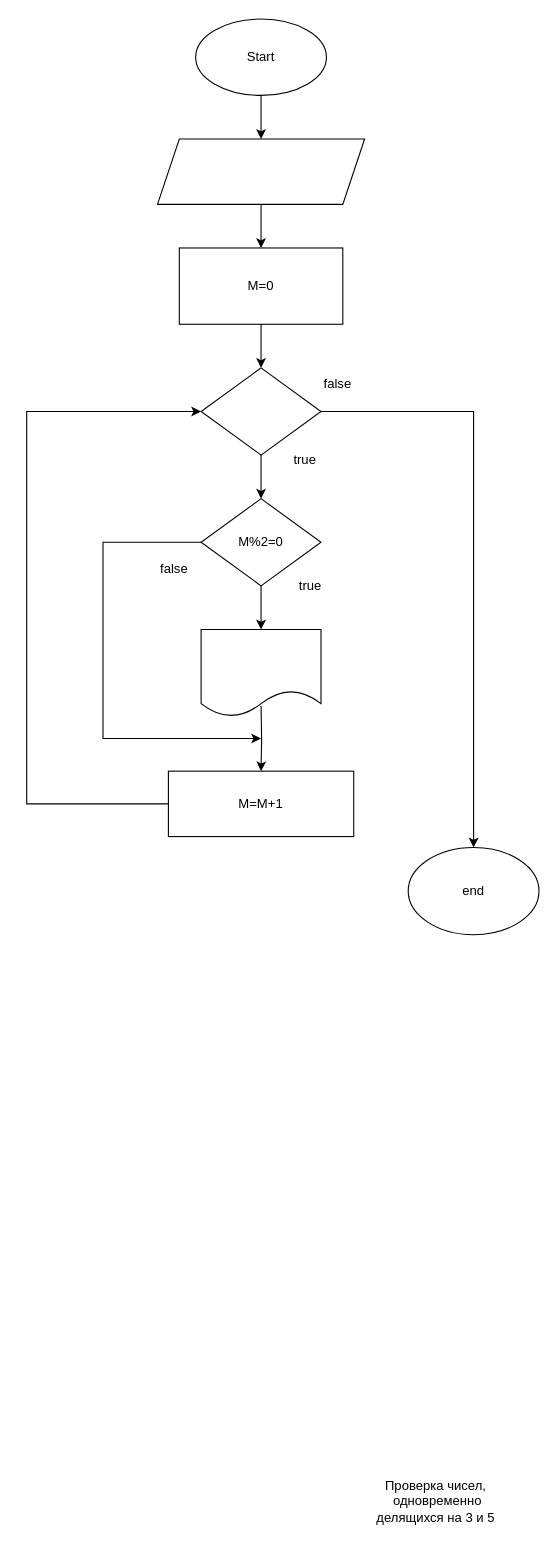
This 558x1553 diagram has some shape labels left out. Each missing label, with the centre of its shape:
input N: (x=260, y=171)
M=<N: (x=260, y=411)
print M: (x=260, y=672)
